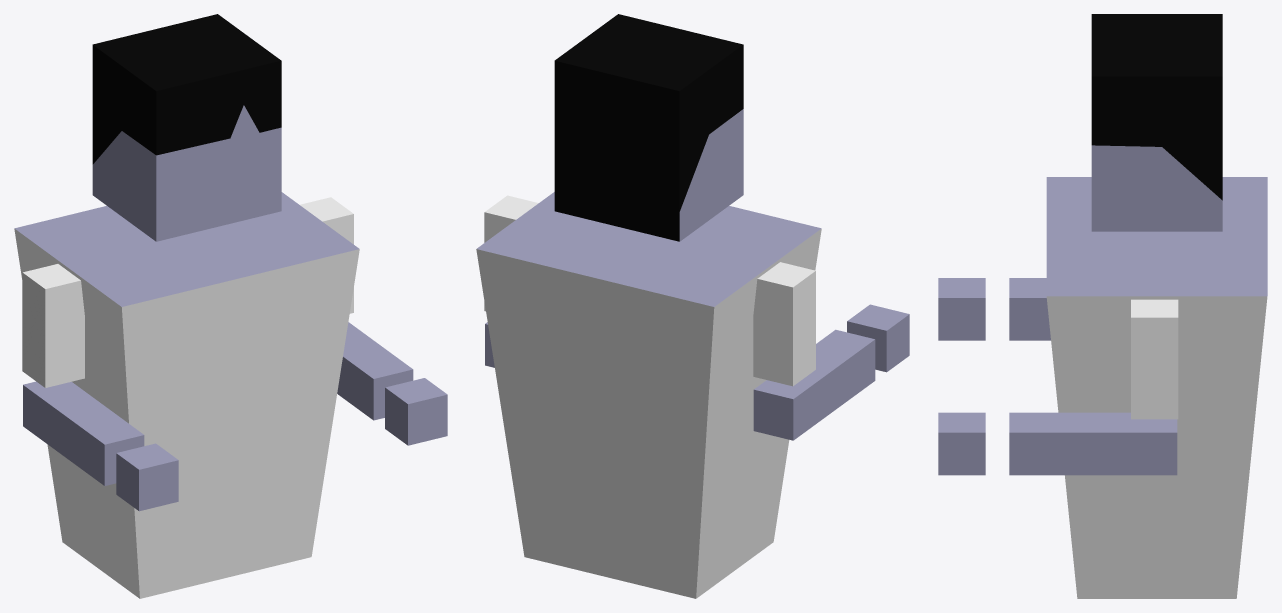
Rendered from Enemy.fbx.
The picture shows the model from 3 angles, left to right: view 1: azimuth 30°, elevation 25°; view 2: azimuth 150°, elevation 25°; view 3: azimuth 270°, elevation 25°; orthographic projection. The views are drawn at different scales.
Parts seen in each view (by area): view 1: Body, Cube, Arms; view 2: Body, Cube, Arms; view 3: Body, Cube, Arms.
Part boxes in pixels (x1=…): Body: x1=14, y1=192, x2=359, y2=598; Cube: x1=92, y1=14, x2=281, y2=241; Arms: x1=22, y1=197, x2=447, y2=511; Body: x1=476, y1=192, x2=821, y2=598; Cube: x1=554, y1=14, x2=743, y2=241; Arms: x1=484, y1=195, x2=909, y2=440; Body: x1=1046, y1=177, x2=1267, y2=598; Cube: x1=1091, y1=14, x2=1222, y2=231; Arms: x1=938, y1=278, x2=1178, y2=475.
Size of the model in its own units: 239 by 368 by 215.
